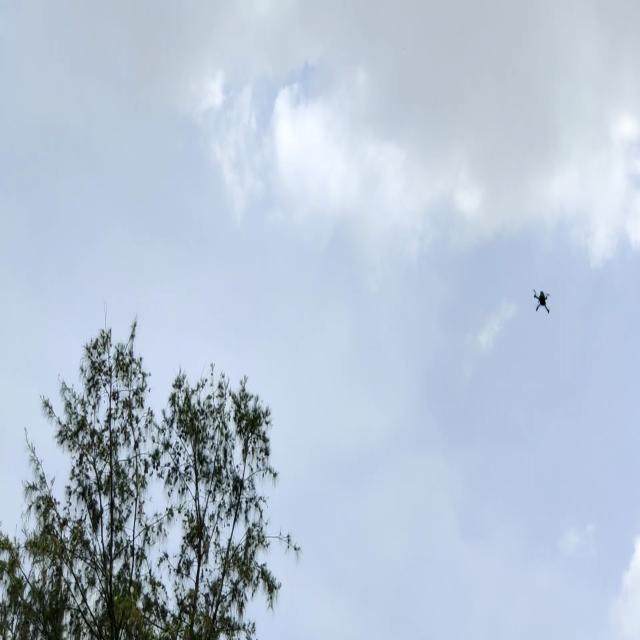drone: (529, 286, 556, 316)
